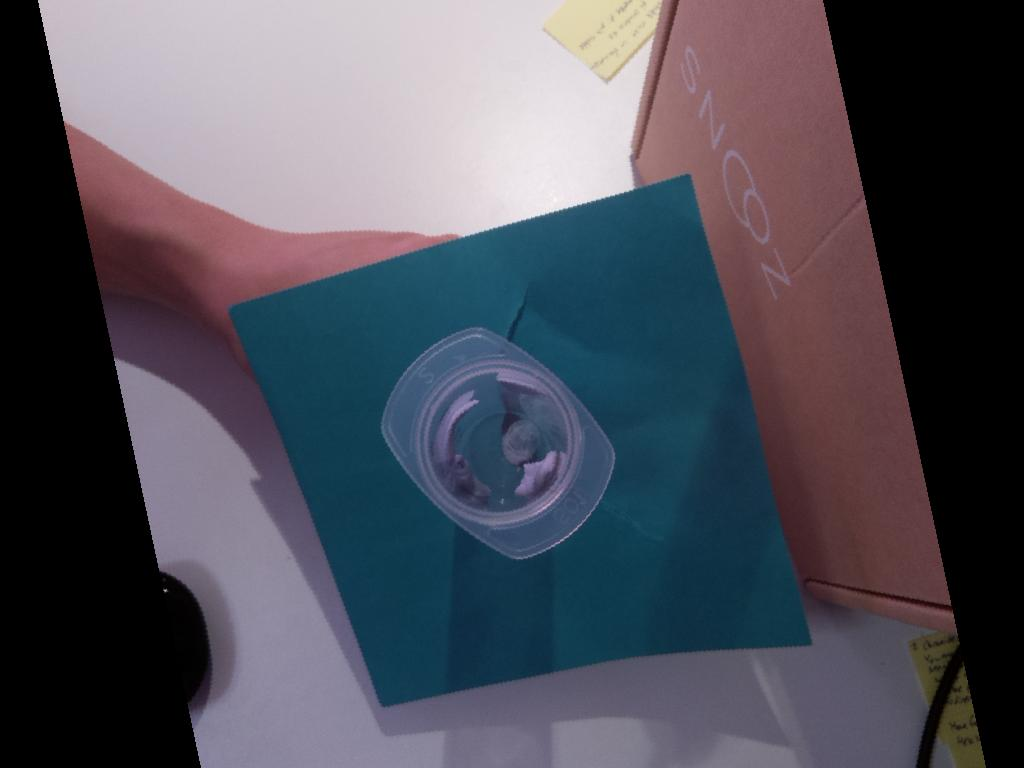dirty: (380, 326, 617, 560)
